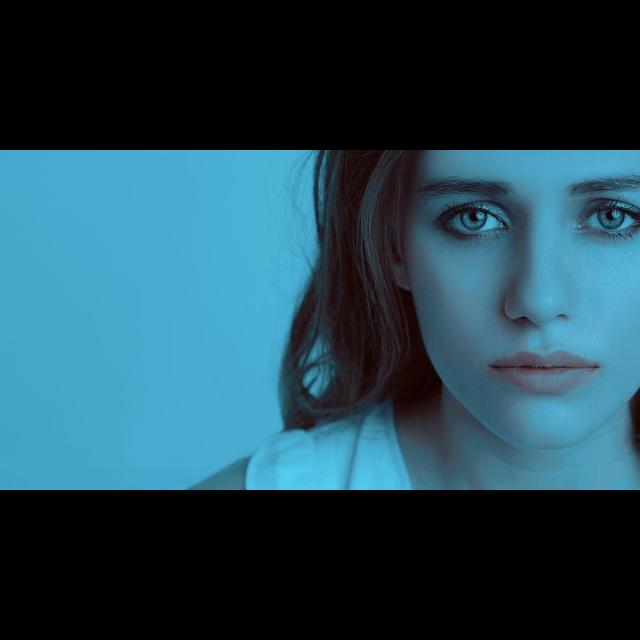female: (334, 150, 640, 437)
